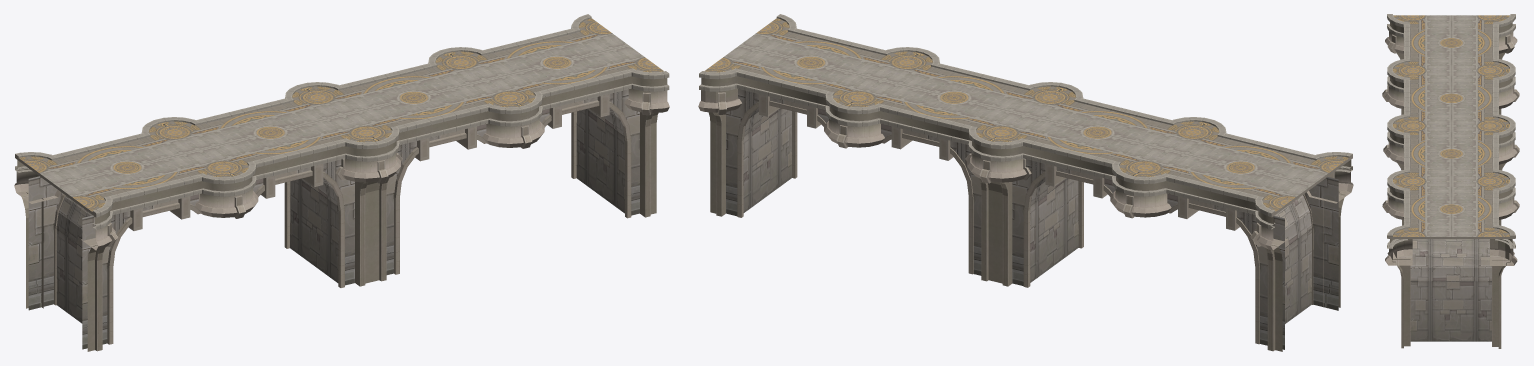
The model's file is mod_zlc_jianzhu035_xy.FBX.
The picture shows the model from 3 angles, left to right: view 1: azimuth 30°, elevation 25°; view 2: azimuth 150°, elevation 25°; view 3: azimuth 270°, elevation 25°; orthographic projection. The views are drawn at different scales.
Visible parts, largest first — view 1: mod_zlc_jianzhu035_xy; view 2: mod_zlc_jianzhu035_xy; view 3: mod_zlc_jianzhu035_xy.
Part boxes in pixels (x1,y1,x2,y2): mod_zlc_jianzhu035_xy: (14, 14, 669, 351); mod_zlc_jianzhu035_xy: (698, 14, 1353, 351); mod_zlc_jianzhu035_xy: (1382, 14, 1519, 348).
Bounding box in the file's own units: 9583 × 2346 × 2513.
Materials: 3 (3 with a texture image).
